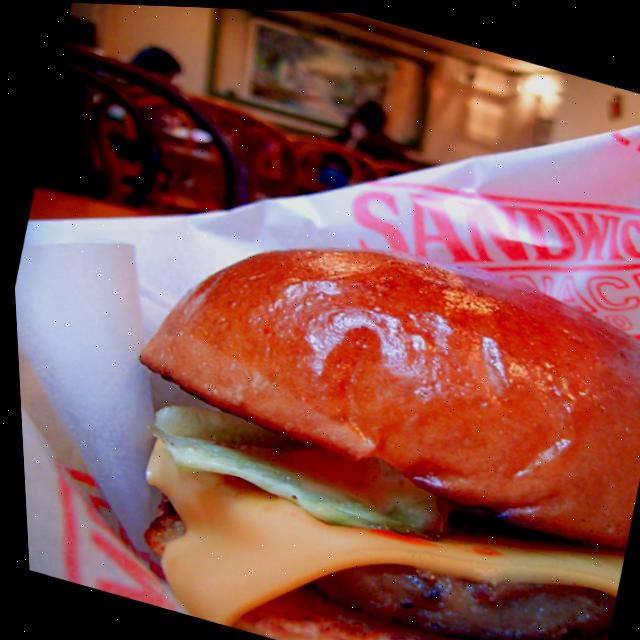汉堡快餐: (61, 169, 640, 640)
